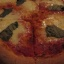basil: (1, 20, 22, 41), (2, 1, 27, 18), (42, 21, 64, 38), (45, 3, 64, 17)
pizza: (1, 1, 64, 64)
